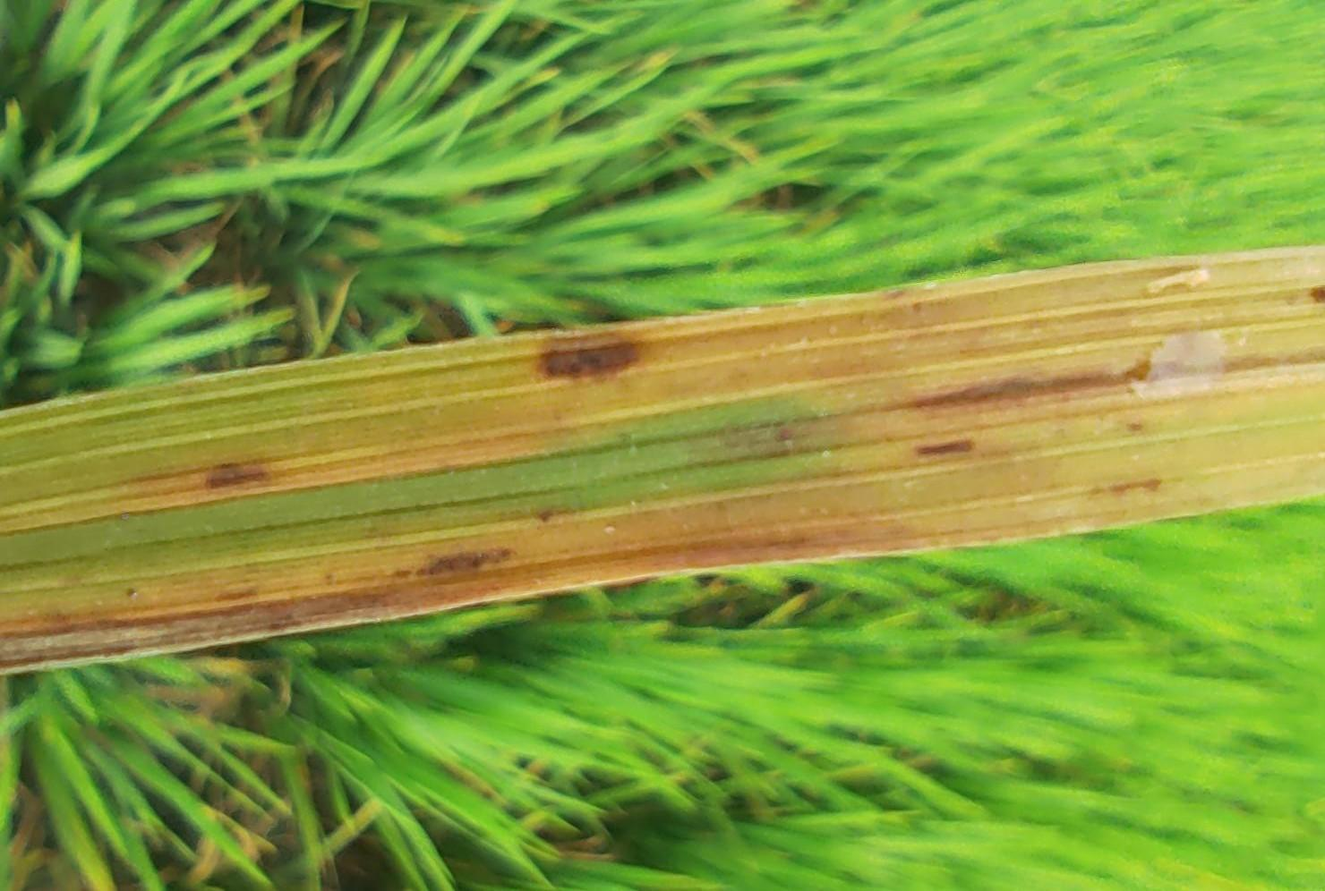LEAF: (0, 244, 1324, 672)
LEAF BLAST: (542, 338, 637, 377)
